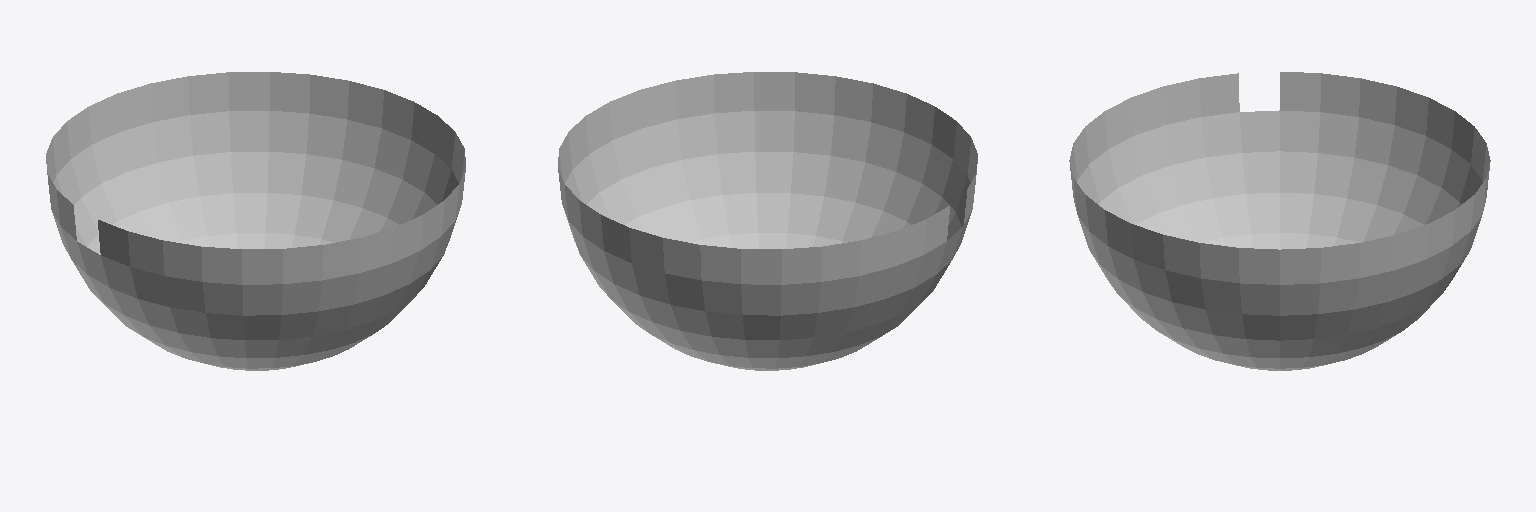
The model's file is concave.obj.
The picture shows the model from 3 angles: view 1: azimuth 30°, elevation 25°; view 2: azimuth 150°, elevation 25°; view 3: azimuth 270°, elevation 25°; orthographic projection.
Size of the model in its own units: 1.85 by 0.9275 by 1.85.